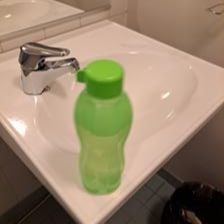bottle: (67, 57, 132, 194)
